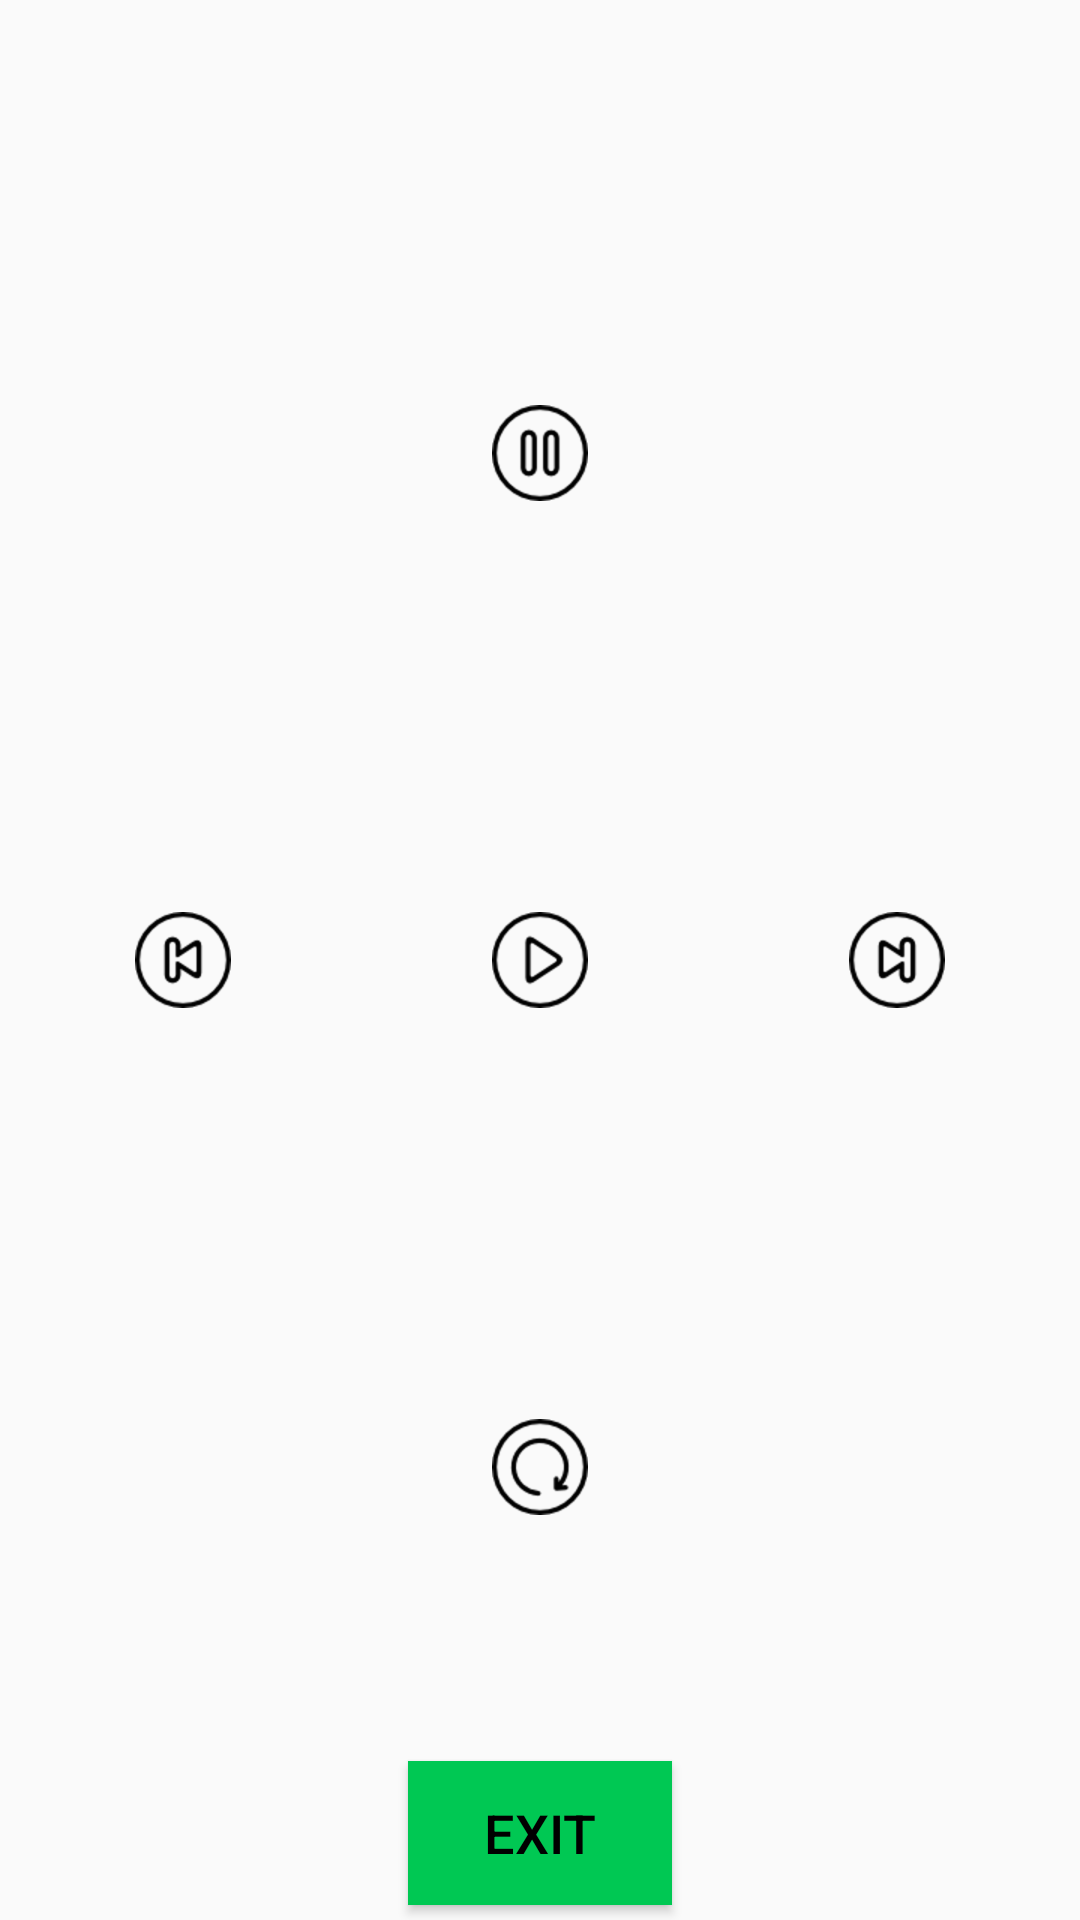

Icons on this 1080px x 1920px Android screen, each with the point to tap as (x,y):
next: (897,960)
pause: (540,453)
play: (540,960)
previous: (183,960)
replay: (540,1467)
